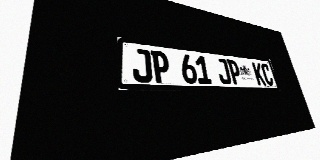1: (194, 55, 212, 84)
6: (179, 54, 198, 84)
C: (260, 63, 274, 85)
J: (131, 48, 153, 83), (215, 58, 232, 85)
K: (251, 62, 266, 85)
P: (150, 50, 171, 83), (226, 59, 243, 85)
